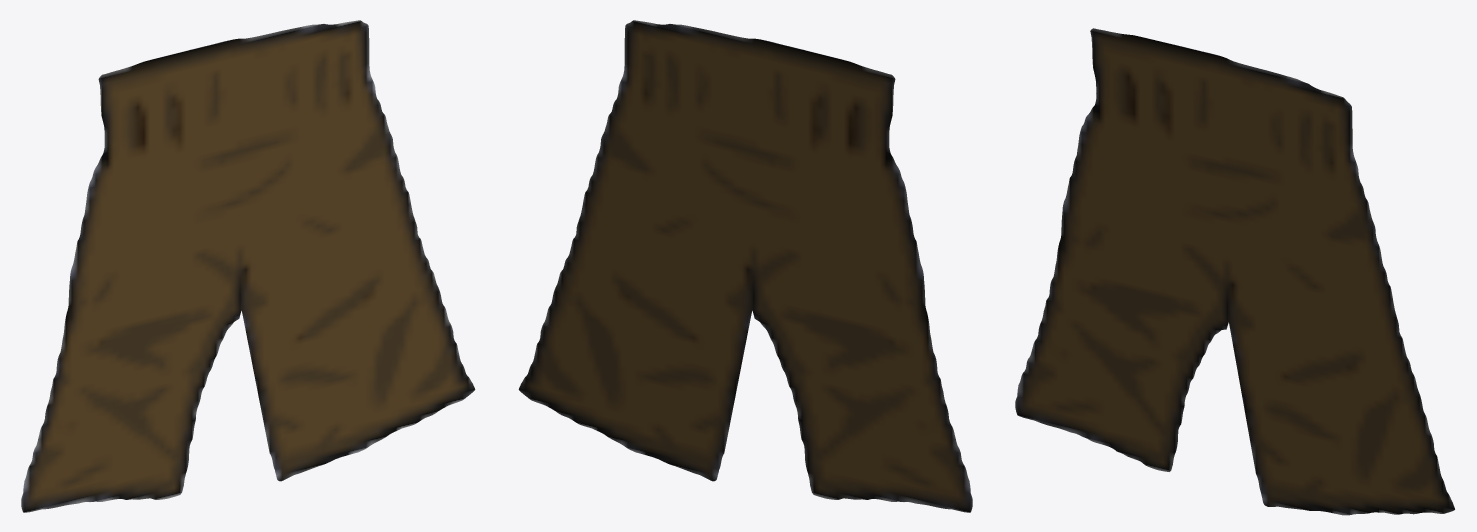
The model's file is giftgoods017.fbx.
3 views of the same model, side by side, from view 1: azimuth 30°, elevation 25°; view 2: azimuth 150°, elevation 25°; view 3: azimuth 330°, elevation 25° (orthographic). The views are drawn at different scales.
Parts seen in each view (by area): view 1: giftgoods017; view 2: giftgoods017; view 3: giftgoods017.
Part boxes in pixels (box(x1,y1,x2,y2)): giftgoods017: box(21, 20, 475, 512); giftgoods017: box(518, 20, 972, 512); giftgoods017: box(1015, 28, 1454, 515).
Size of the model in its own units: 0.5864 by 0.5529 by 0.
